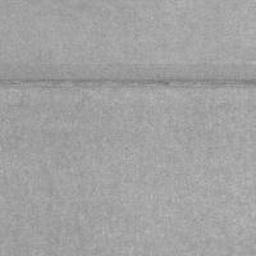Welding line: (1, 77, 256, 88)
